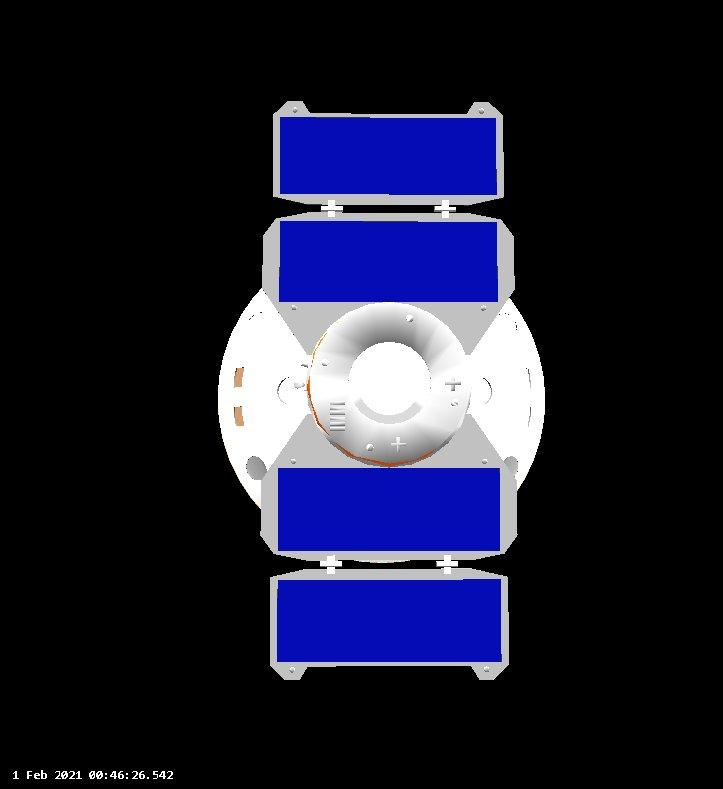body: (218, 277, 546, 525)
solar: (275, 578, 505, 665), (275, 464, 503, 551), (278, 221, 501, 305), (277, 116, 501, 198)
